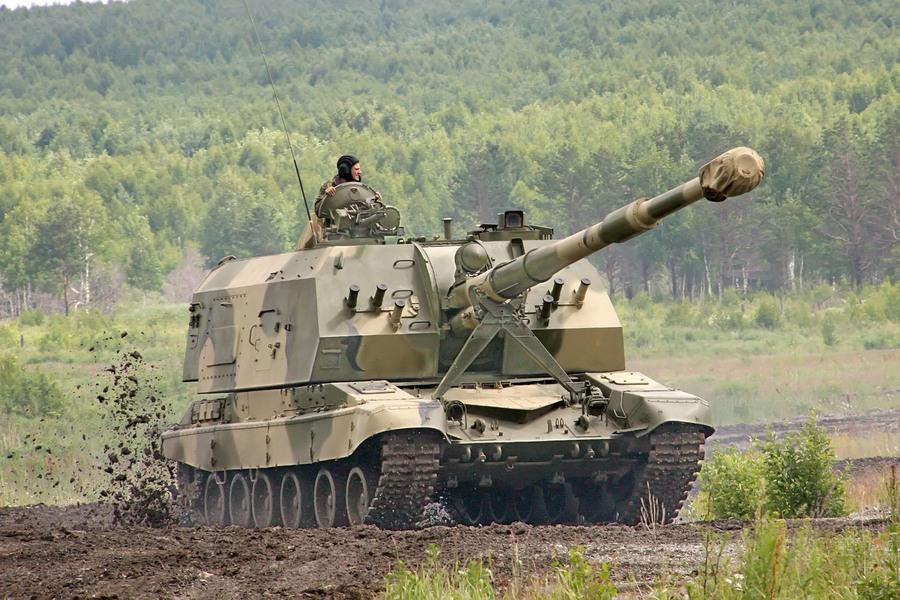sau: (152, 112, 801, 553)
